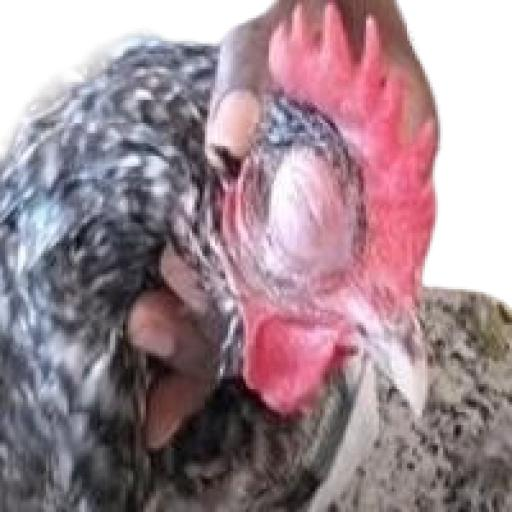disease: (233, 143, 361, 297)
